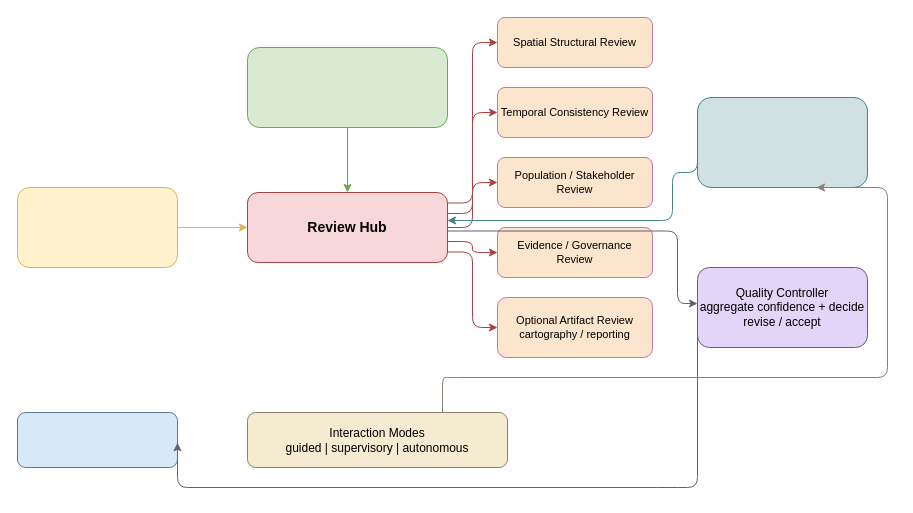
The diagram is 913 pixels wide and 513 high, and some of its shapes have lost their labels. Each missing label, with the centre of its shape:
"Human Checkpoints scale review / stakeholder override / memory directive" goes at (782,142).
"ManagerAgent re-dispatch / continue" goes at (97,440).
"Typed Evidence Manifest spatial / temporal / population / governance" goes at (347,87).
"Worker Outputs features / claims / maps / reports" goes at (97,227).
